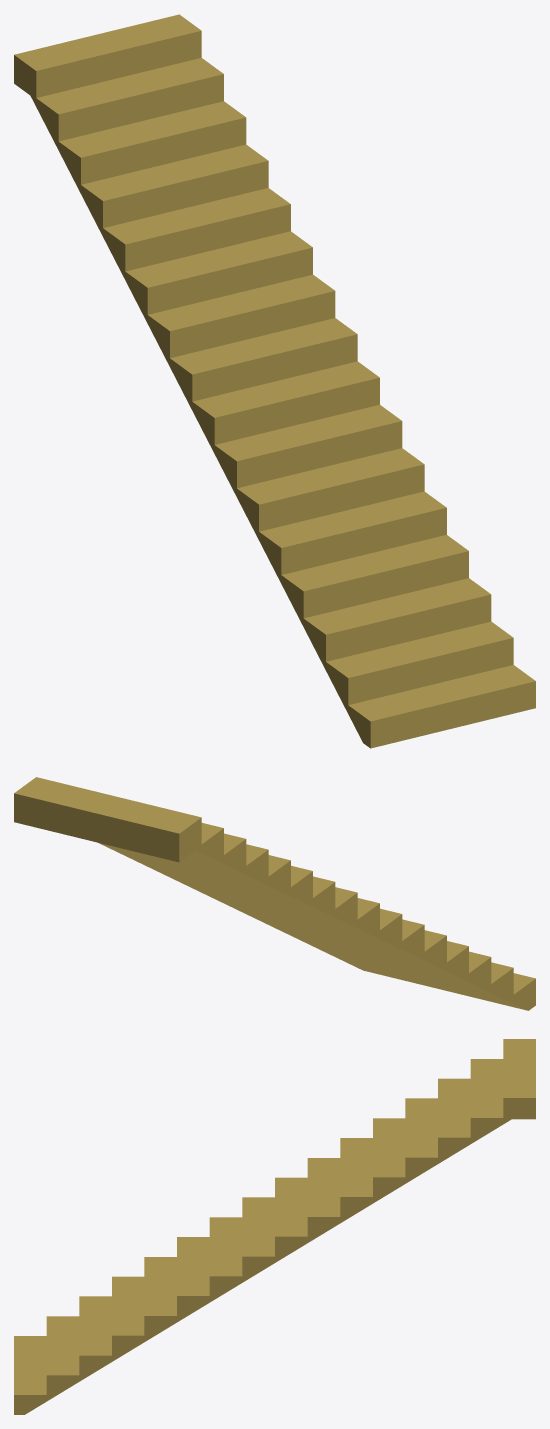
File: arch_stair_straight_f300.glb
The picture shows the model from 3 angles, top to bottom: view 1: azimuth 30°, elevation 25°; view 2: azimuth 150°, elevation 25°; view 3: azimuth 270°, elevation 25°; orthographic projection. The views are drawn at different scales.
Parts seen in each view (by area): view 1: Stair; view 2: Stair; view 3: Stair.
Boxes of the visible parts, x1,y1,x2,y2 form: Stair: [14, 14, 535, 748]; Stair: [14, 777, 535, 1010]; Stair: [14, 1039, 535, 1414].
Size of what is drawn, in the model's own units: 1.2 by 3 by 4.48.
